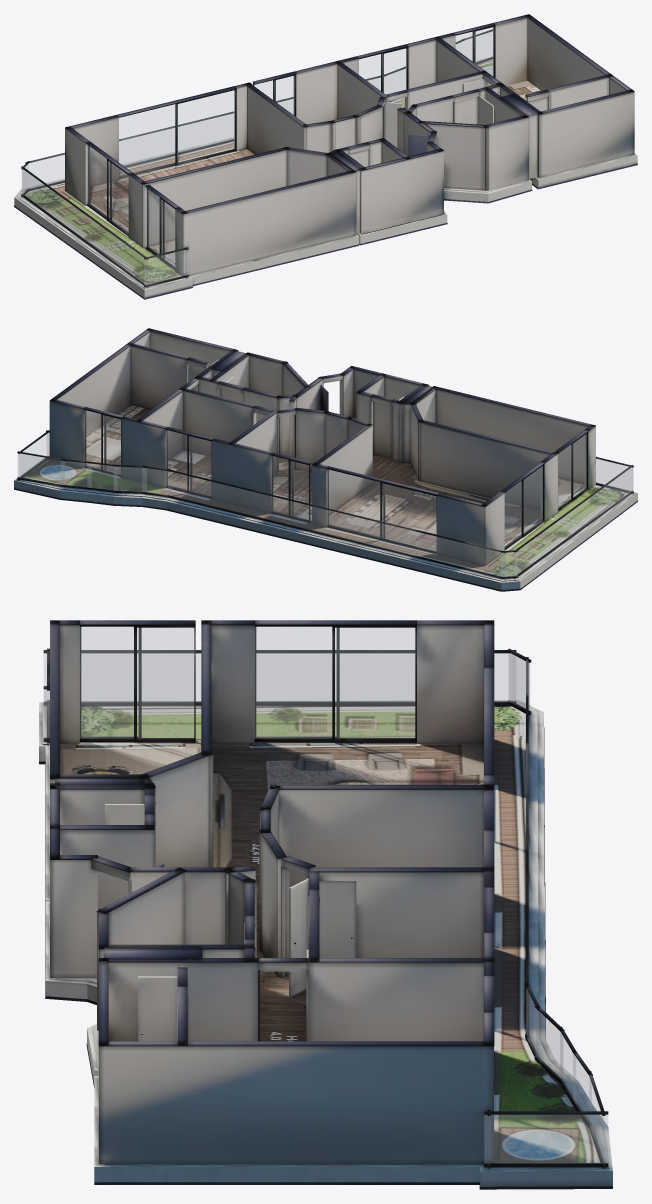
3 views of the same model, one above another, from view 1: azimuth 30°, elevation 25°; view 2: azimuth 150°, elevation 25°; view 3: azimuth 270°, elevation 25° (orthographic). The views are drawn at different scales.
Parts seen in each view (by area): view 1: plan, glass0_m, railg1_m, railg11_m, glass4_m, glass2_m, glass5_m, glass3_m, railg3_m, glass1_m, railg8_m; view 2: plan, railg1_m, glass0_m, railg11_m, glass2_m, glass4_m, glass1_m, glass3_m, glass5_m, railg8_m, railg3_m, railg5_m (+5 smaller); view 3: plan, glass4_m, railg11_m, glass5_m, railg9_m, railg5_m, railg0_m, railg7_m.
Part boxes in pixels (box(x1,y1,x2,y2)): plan: box(14, 14, 637, 299); glass0_m: box(119, 90, 234, 176); railg1_m: box(26, 78, 380, 188); railg11_m: box(22, 169, 147, 285); glass4_m: box(88, 145, 128, 232); glass2_m: box(359, 48, 406, 107); glass5_m: box(146, 188, 174, 266); glass3_m: box(456, 27, 493, 85); railg3_m: box(144, 250, 187, 284); glass1_m: box(254, 76, 294, 114); railg8_m: box(465, 32, 492, 61); plan: box(14, 328, 637, 591); railg1_m: box(168, 471, 504, 576); glass0_m: box(327, 469, 436, 550); railg11_m: box(514, 468, 632, 576); glass2_m: box(166, 430, 211, 495); glass4_m: box(505, 466, 542, 547); glass1_m: box(272, 456, 308, 519); glass3_m: box(85, 410, 120, 473); glass5_m: box(558, 434, 586, 508); railg8_m: box(18, 453, 64, 484); railg3_m: box(596, 459, 633, 491); railg5_m: box(114, 466, 146, 491); plan: box(39, 620, 612, 1189); glass4_m: box(255, 627, 414, 738); railg11_m: box(44, 653, 515, 701); glass5_m: box(80, 627, 193, 738); railg9_m: box(484, 1115, 607, 1163); railg5_m: box(536, 1009, 562, 1080); railg0_m: box(509, 653, 529, 711); railg7_m: box(573, 1054, 591, 1122).
Size of the model in its own units: 19.28 by 2.62 by 9.91.
2 materials, 1 textured.
